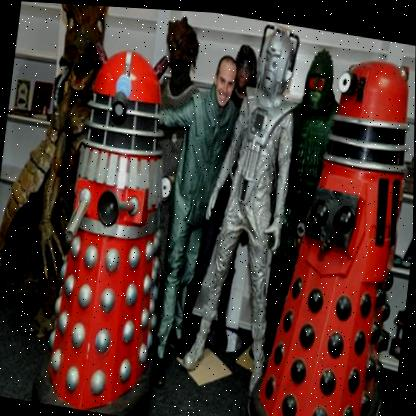dalek: (26, 35, 201, 416), (242, 37, 416, 416)
person: (126, 44, 250, 409)
